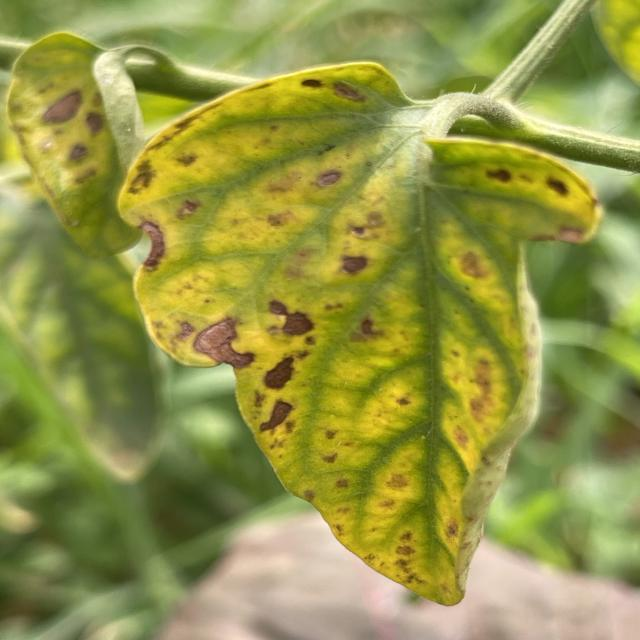tomato_early blight: (115, 59, 600, 618), (1, 29, 160, 252)
